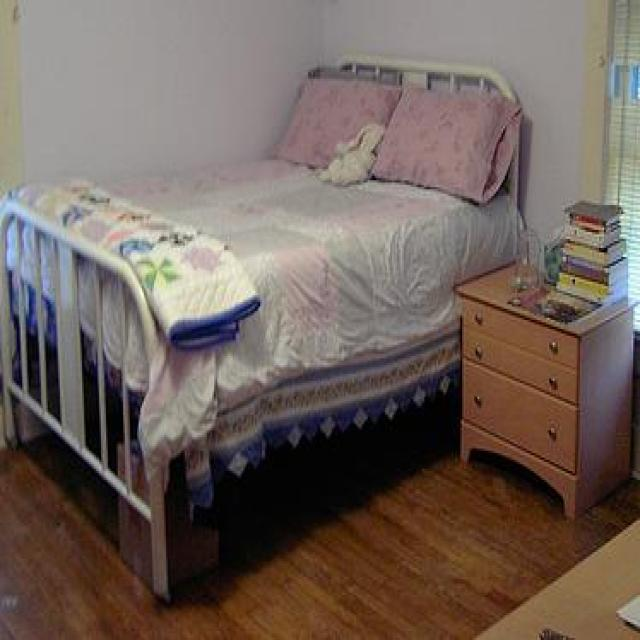bed: (0, 52, 527, 604)
